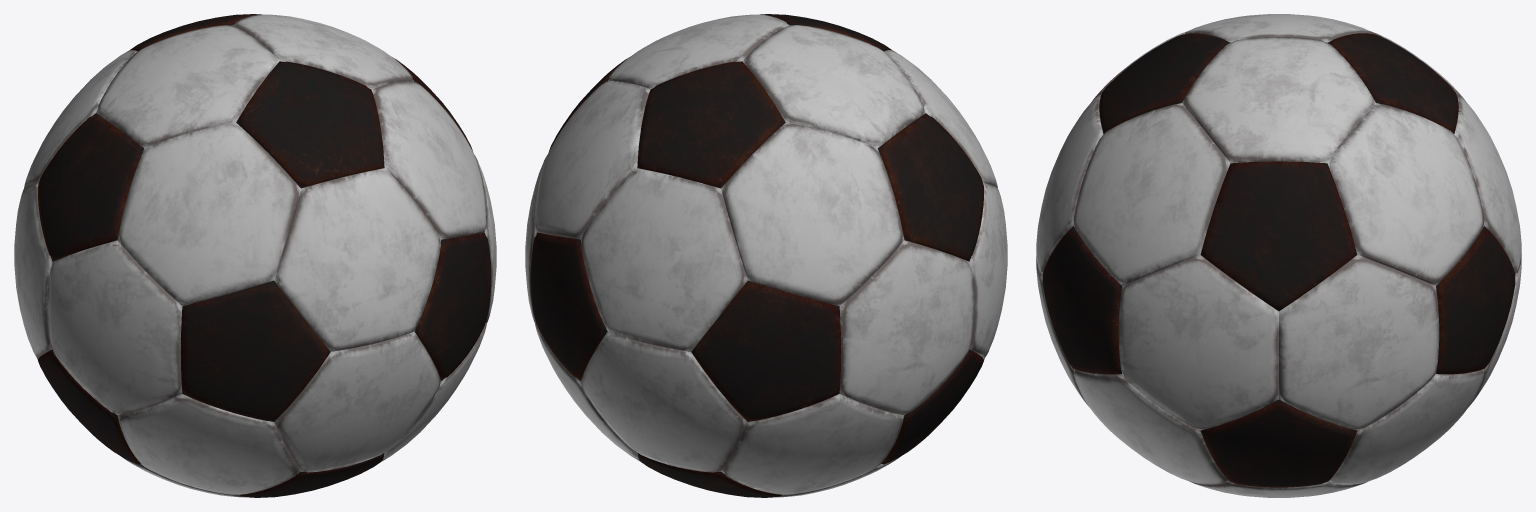
Rendered from football.glb.
3 views of the same model, side by side, from view 1: azimuth 30°, elevation 25°; view 2: azimuth 150°, elevation 25°; view 3: azimuth 270°, elevation 25° (orthographic).
Visible parts, largest first — view 1: Hedra2; view 2: Hedra2; view 3: Hedra2.
Boxes of the visible parts, x1,y1,x2,y2 form: Hedra2: (14, 14, 496, 497); Hedra2: (525, 14, 1007, 497); Hedra2: (1036, 14, 1521, 497).
Bounding box in the file's own units: 112 × 112 × 112.
Materials: 1 (1 with a texture image).
